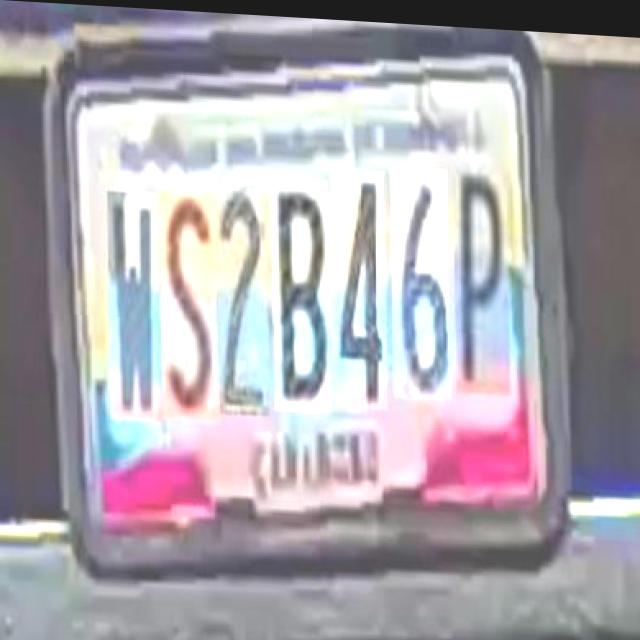2: (216, 183, 268, 413)
4: (332, 167, 388, 408)
6: (390, 165, 449, 397)
b: (271, 177, 330, 411)
p: (452, 158, 510, 392)
s: (158, 187, 218, 419)
w: (107, 189, 160, 420)
